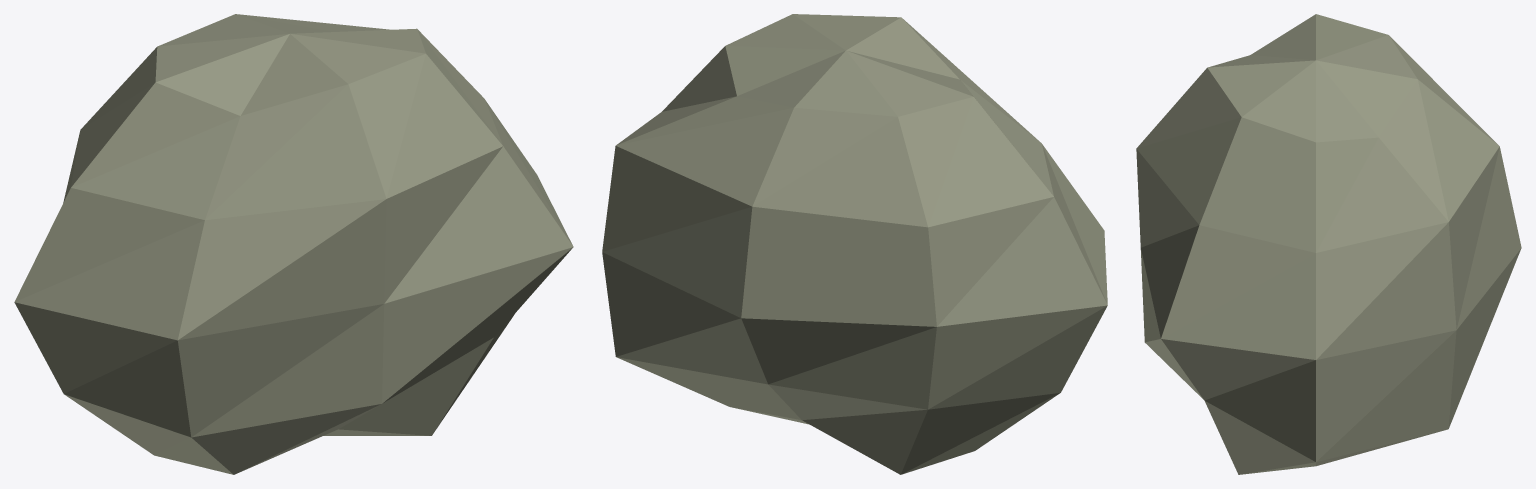
Rendered from rock_boulder_lod0.obj.
3 views of the same model, side by side, from view 1: azimuth 30°, elevation 25°; view 2: azimuth 150°, elevation 25°; view 3: azimuth 270°, elevation 25° (orthographic). The views are drawn at different scales.
Parts seen in each view (by area): view 1: rock_boulder_lod0; view 2: rock_boulder_lod0; view 3: rock_boulder_lod0.
Boxes of the visible parts, x1=… form: rock_boulder_lod0: x1=14, y1=14, x2=573, y2=474; rock_boulder_lod0: x1=602, y1=14, x2=1107, y2=474; rock_boulder_lod0: x1=1136, y1=14, x2=1521, y2=474.
Size of the model in its own units: 2.58 by 1.9 by 1.77.
1 material, 1 textured.
